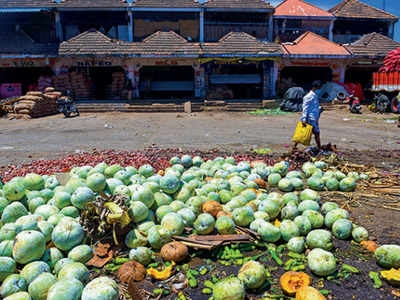kitchen_waste: (9, 226, 51, 262), (48, 216, 86, 253), (80, 270, 122, 300), (234, 255, 270, 289), (156, 240, 199, 268), (276, 266, 320, 293), (304, 245, 340, 276), (43, 275, 87, 300), (1, 199, 35, 230), (16, 255, 52, 284), (246, 216, 284, 243), (26, 272, 64, 299), (211, 272, 247, 300), (67, 184, 98, 212), (115, 259, 151, 283), (122, 200, 155, 225), (371, 241, 400, 269), (160, 210, 189, 238), (306, 226, 338, 251), (228, 202, 259, 227), (65, 240, 94, 266), (330, 216, 359, 241), (277, 215, 305, 240), (156, 171, 184, 196), (292, 283, 332, 300), (191, 212, 217, 238), (3, 177, 27, 205), (130, 183, 156, 208), (374, 263, 400, 288), (21, 170, 48, 194), (85, 170, 109, 195), (213, 212, 237, 237), (283, 234, 313, 253), (257, 197, 284, 218), (201, 180, 221, 206), (348, 223, 373, 243), (305, 174, 328, 193), (338, 175, 359, 193), (178, 153, 198, 168)
